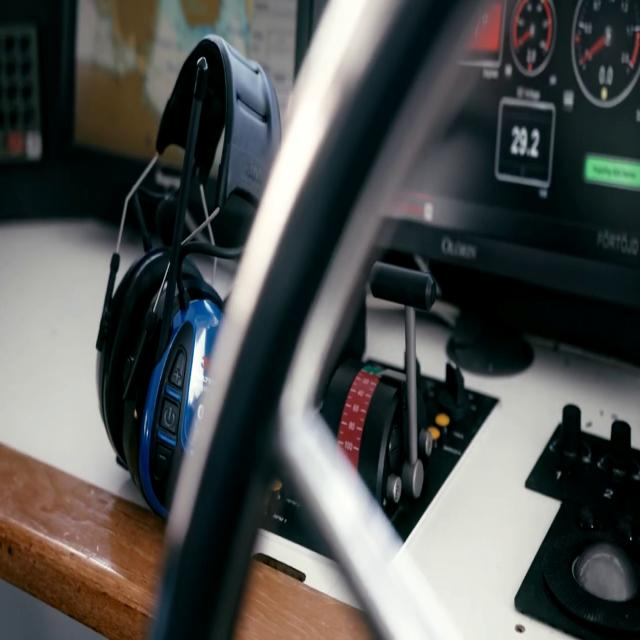earmuff: (130, 274, 238, 529)
